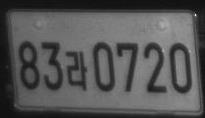0: (168, 42, 192, 94), (91, 41, 115, 92)
2: (143, 41, 167, 92)
3: (41, 41, 64, 90)
7: (116, 42, 139, 91)
8: (17, 39, 40, 90)
라: (65, 50, 87, 91)
